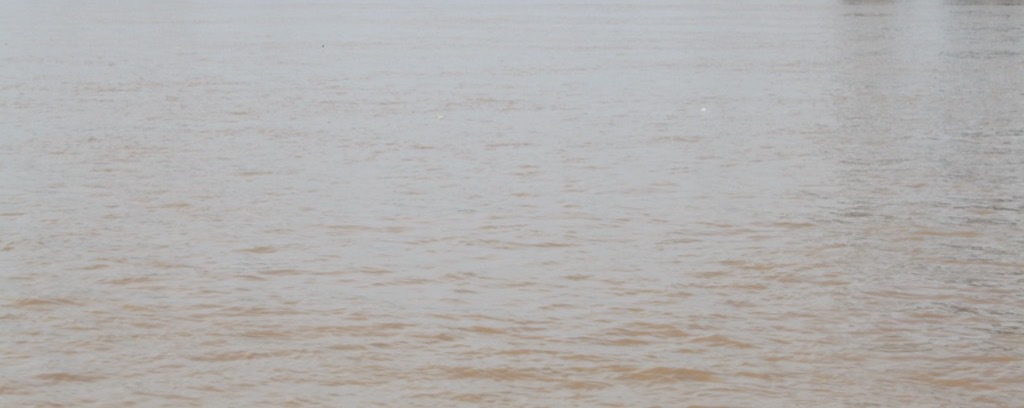plastic: (421, 103, 458, 132), (689, 95, 722, 124)
structure: (935, 1, 1024, 217), (835, 1, 909, 214)
